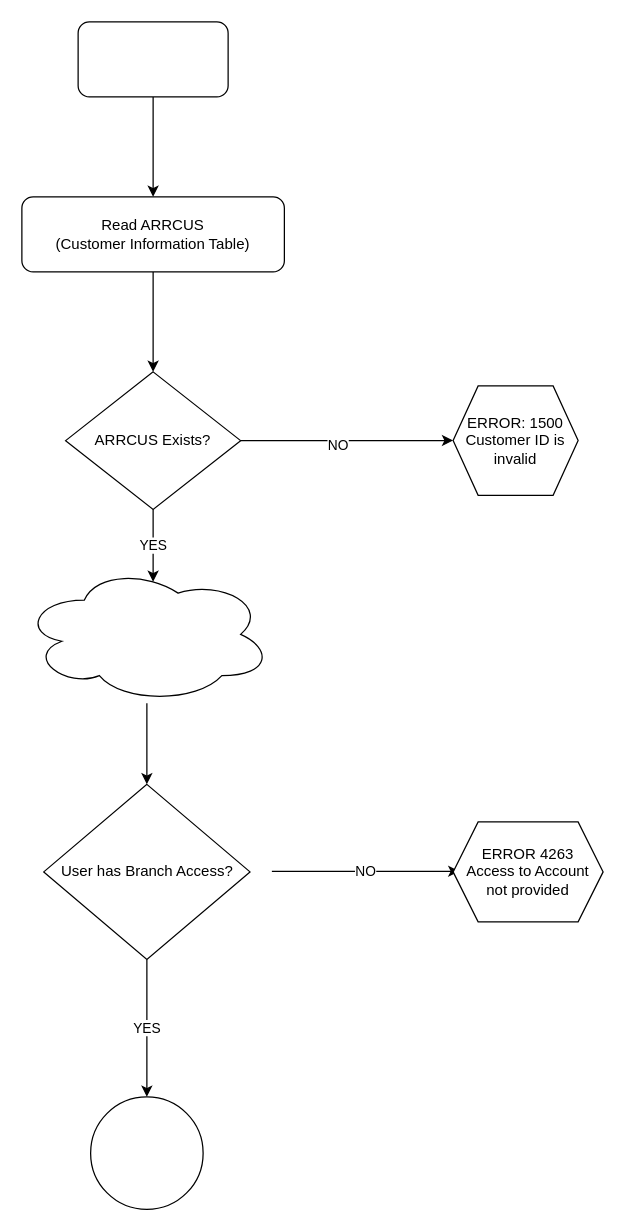
Some shapes in this 625 by 1231 pixel diagram are drawn without their labels. The box of each missing label's shape, as (x1, y1, x2, y2) in pixels:
Branch Access Check: (21, 564, 272, 703)
Return Details: (89, 1096, 203, 1209)
START: (77, 21, 228, 97)
